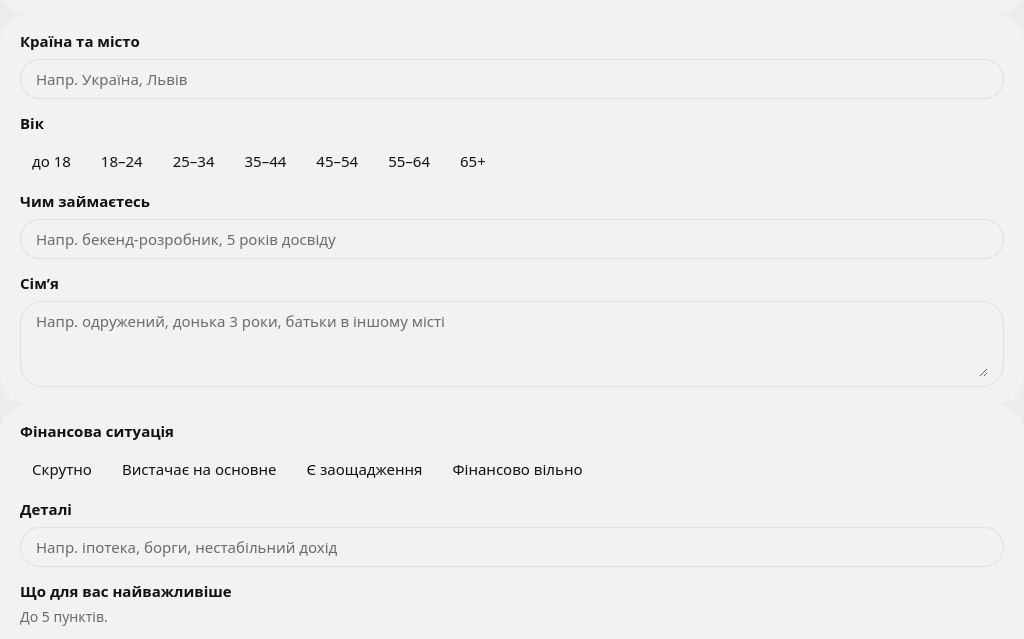
Test: AboutSettings › зберігає заповнене однією кнопкою
This screenshot has width=1024, height=639.
Type "Україна, Львів" into the field labelled "Країна та місто" at (518, 79), box x1=36 y1=63 x2=1000 y2=95
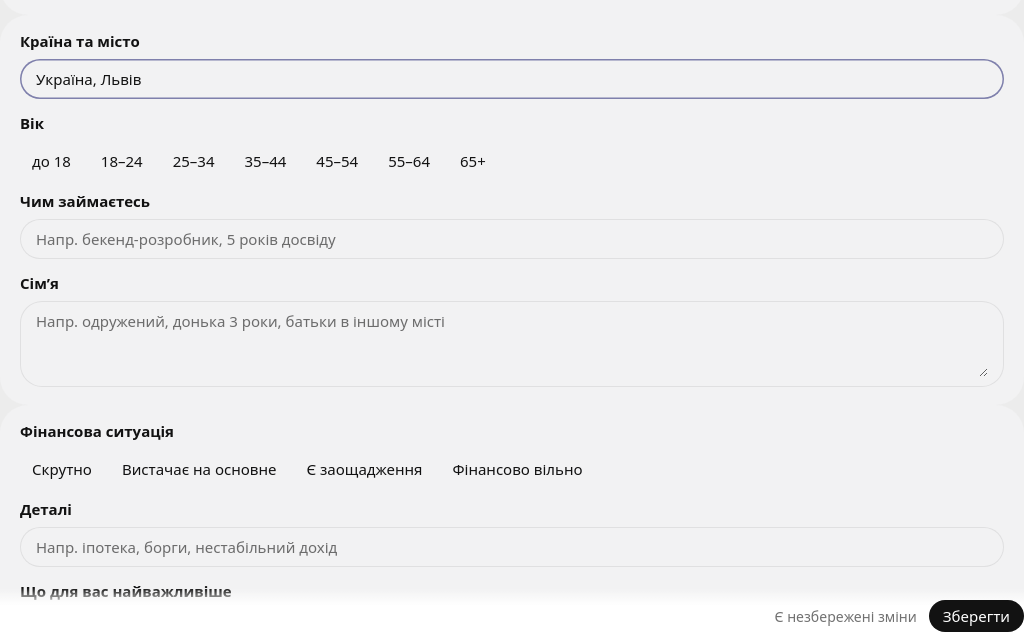
Click the radio button labelled "25–34" at (194, 161), box x1=161 y1=145 x2=226 y2=177
(page scrolled)
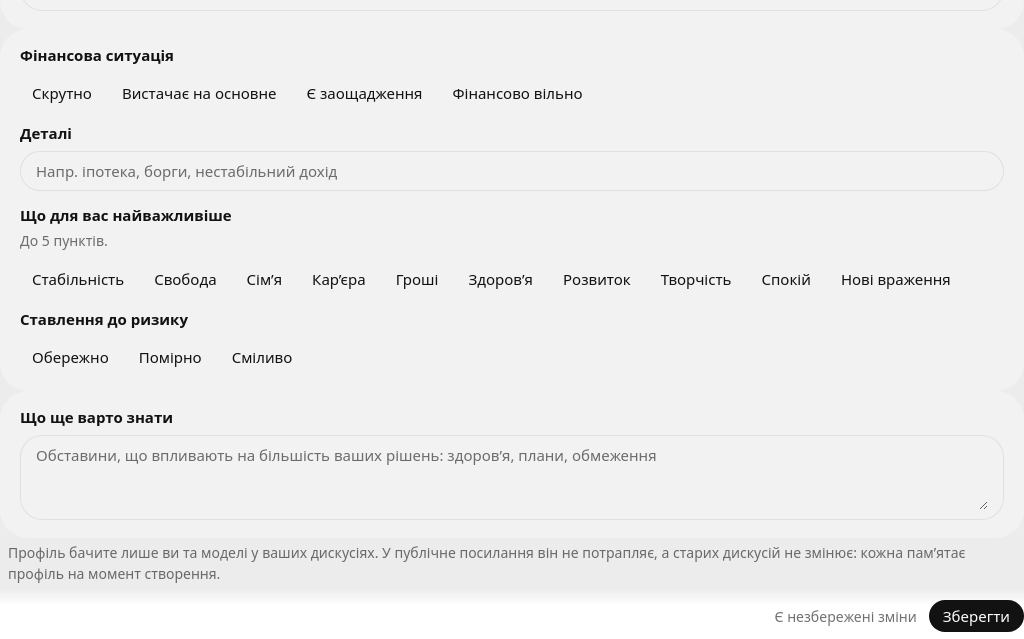
Click the checkbox labelled "Сім’я" at (264, 279), box x1=234 y1=263 x2=294 y2=295
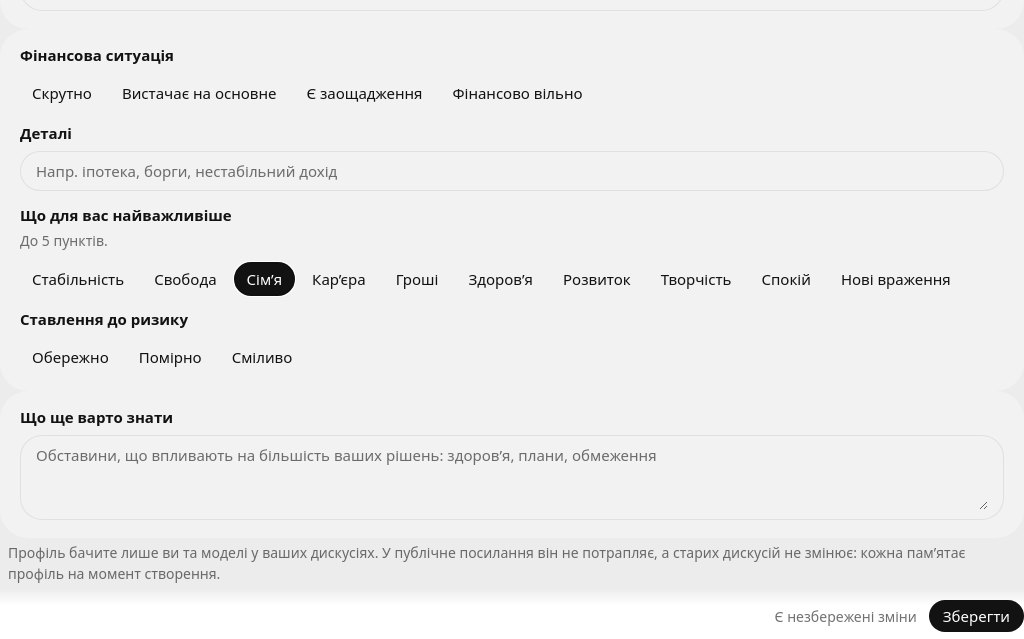
Click the radio button labelled "Обережно" at (70, 357), box x1=20 y1=341 x2=121 y2=373
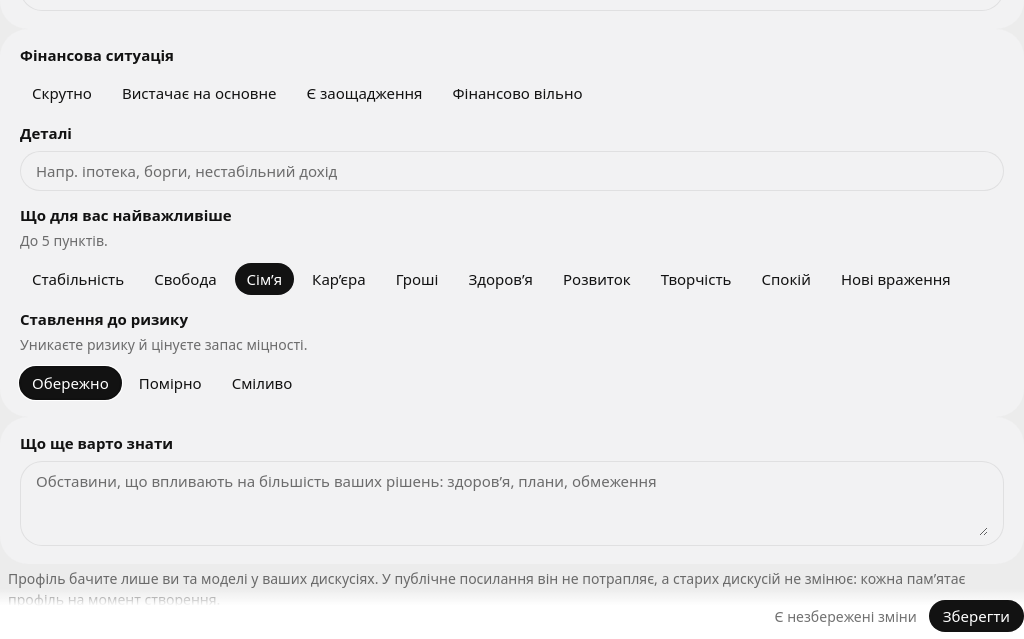
Result: the text "Є незбережені зміни" is shown at x1=774 y1=606 x2=917 y2=626
Result: the text "Уникаєте ризику й цінуєте запас міцності." is shown at x1=20 y1=335 x2=307 y2=354
Click the button "Зберегти" at (976, 616), box x1=929 y1=600 x2=1023 y2=632
(page scrolled)
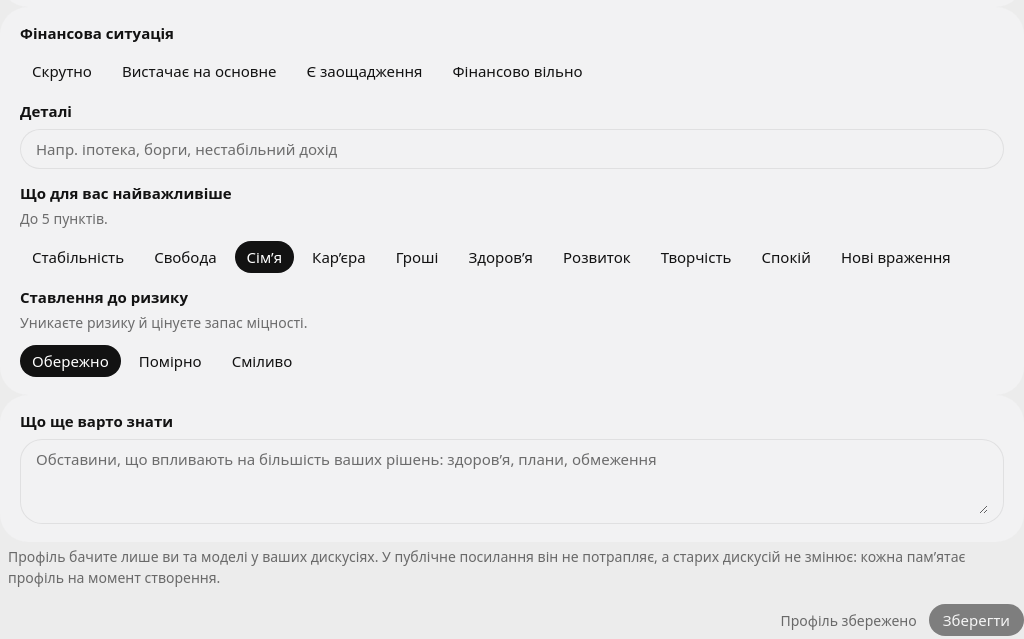
Result: the text "Профіль збережено" is shown at x1=758 y1=611 x2=917 y2=630
Result: the button "Зберегти" is disabled at x1=929 y1=604 x2=1023 y2=636
